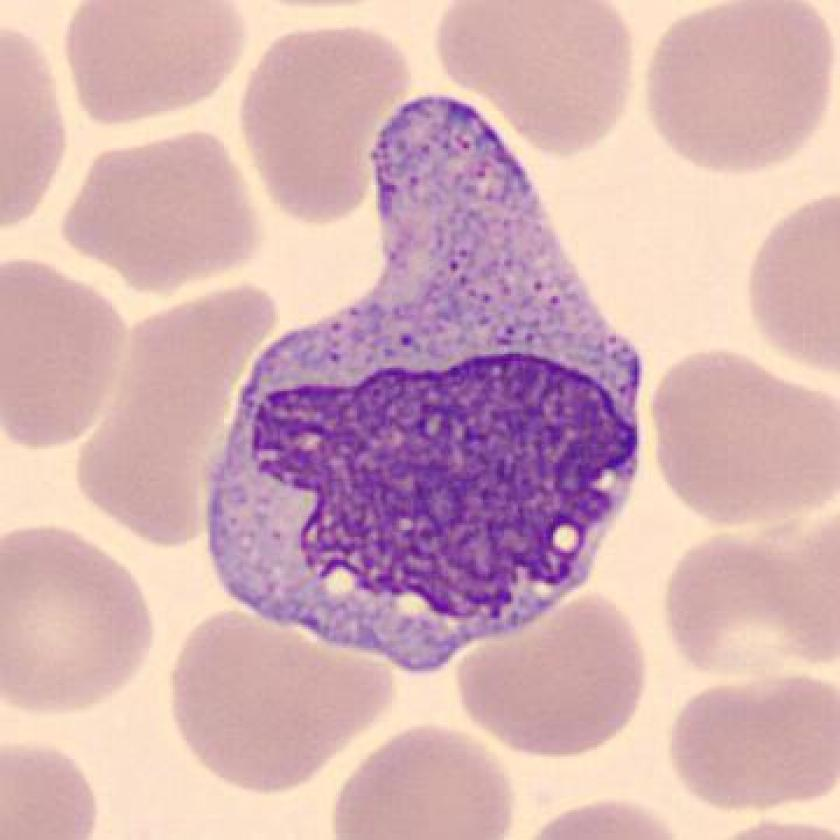monocyte: (185, 85, 664, 698)
